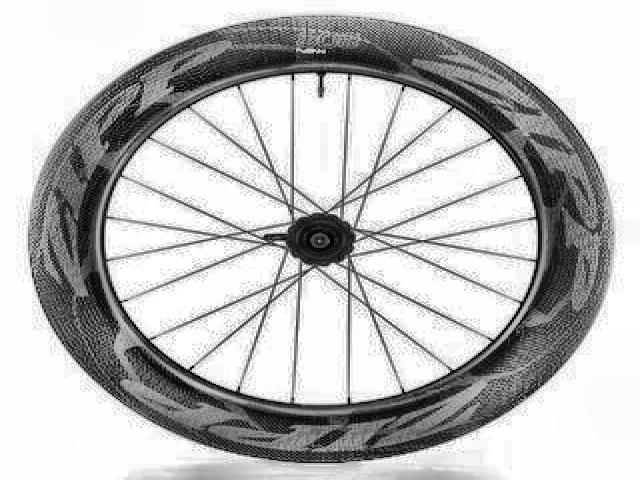wheel: (21, 10, 620, 468)
